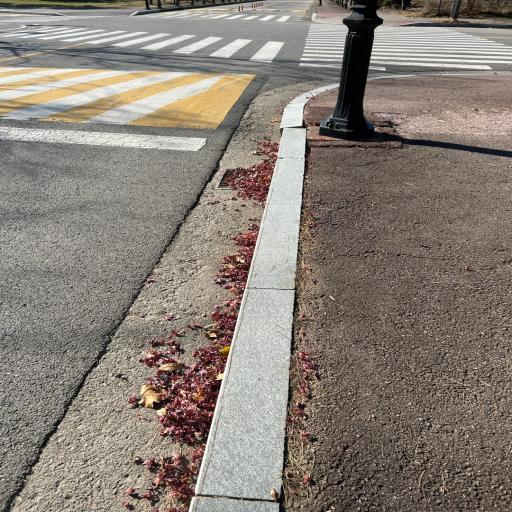debris: (248, 170, 271, 186), (232, 178, 239, 186), (230, 179, 232, 182)
drain: (219, 170, 273, 187)
